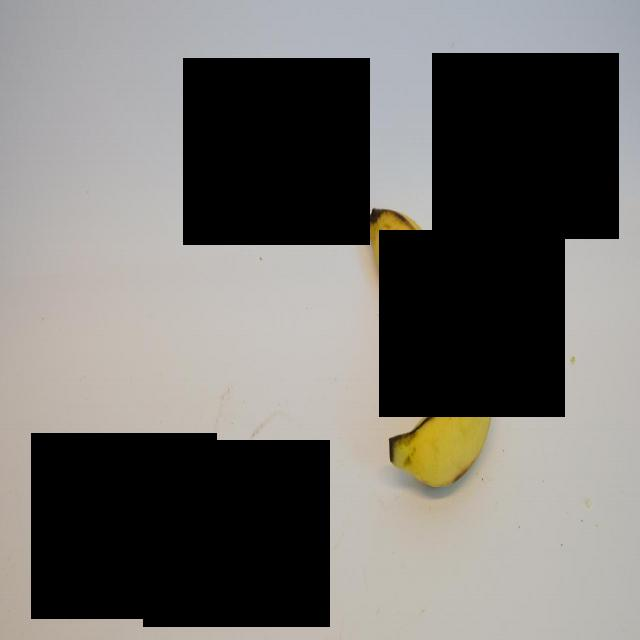banana: (366, 203, 494, 490)
